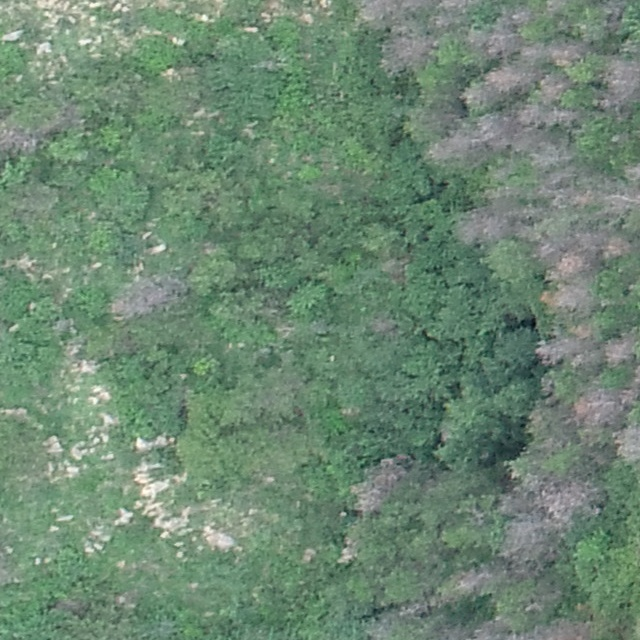unhealthy: (347, 452, 408, 516), (105, 273, 183, 322), (542, 470, 606, 521), (502, 517, 552, 575), (596, 51, 639, 112), (425, 127, 485, 168), (454, 206, 514, 245), (382, 31, 436, 72), (535, 331, 593, 367), (480, 62, 536, 97), (572, 387, 620, 427), (548, 243, 596, 281), (352, 1, 426, 25), (544, 281, 595, 314), (509, 102, 570, 129), (530, 137, 573, 175), (0, 118, 39, 157), (41, 101, 85, 134), (474, 111, 510, 151), (451, 564, 496, 595), (482, 24, 521, 59), (532, 619, 595, 640), (602, 332, 638, 368), (534, 170, 573, 201), (600, 186, 639, 217), (547, 38, 588, 66), (612, 422, 639, 461), (537, 73, 570, 103), (596, 0, 628, 30), (475, 618, 513, 640), (601, 233, 633, 259), (500, 0, 535, 23), (433, 621, 474, 639), (525, 229, 552, 254), (522, 39, 548, 63), (434, 0, 477, 14), (572, 184, 595, 208), (619, 381, 640, 407), (621, 160, 639, 184)
